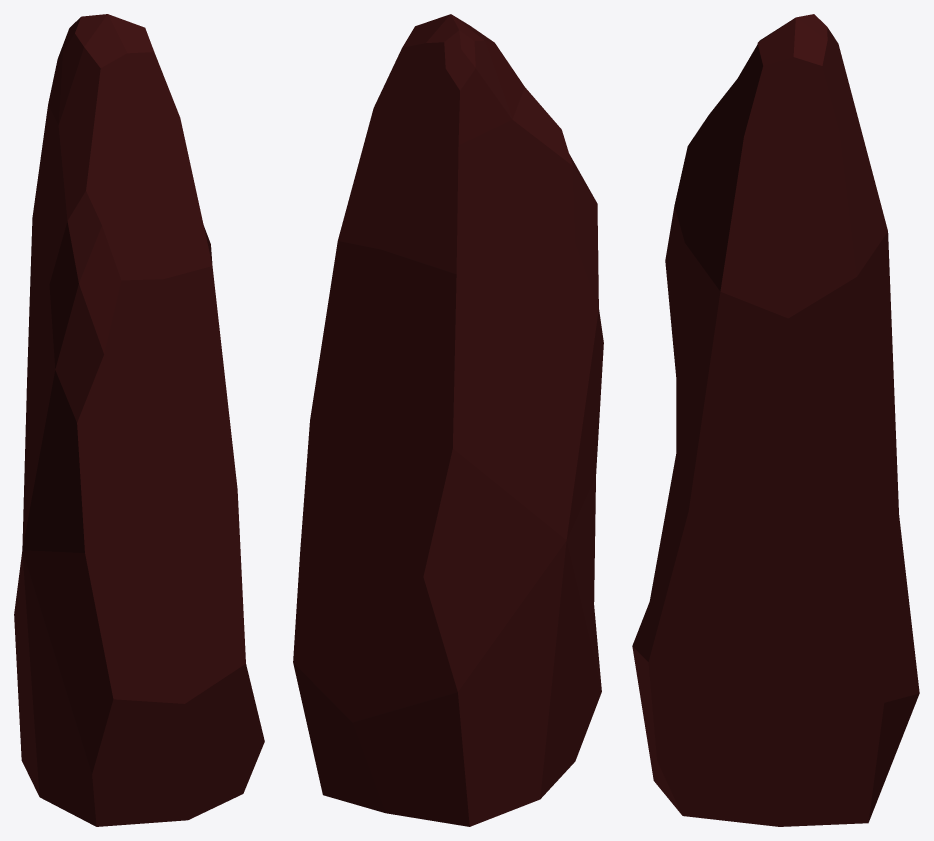
Rendered from PointyRock_03.fbx.
3 renders of one model, left to right at view 1: azimuth 30°, elevation 25°; view 2: azimuth 150°, elevation 25°; view 3: azimuth 270°, elevation 25°, orthographic. The views are drawn at different scales.
Visible parts, largest first — view 1: pointyrock_03; view 2: pointyrock_03; view 3: pointyrock_03.
Boxes of the visible parts, x1,y1,x2,y2 form: pointyrock_03: [14, 14, 264, 826]; pointyrock_03: [293, 14, 603, 826]; pointyrock_03: [632, 14, 919, 826].
Size of the model in its own units: 272 by 940 by 321.
